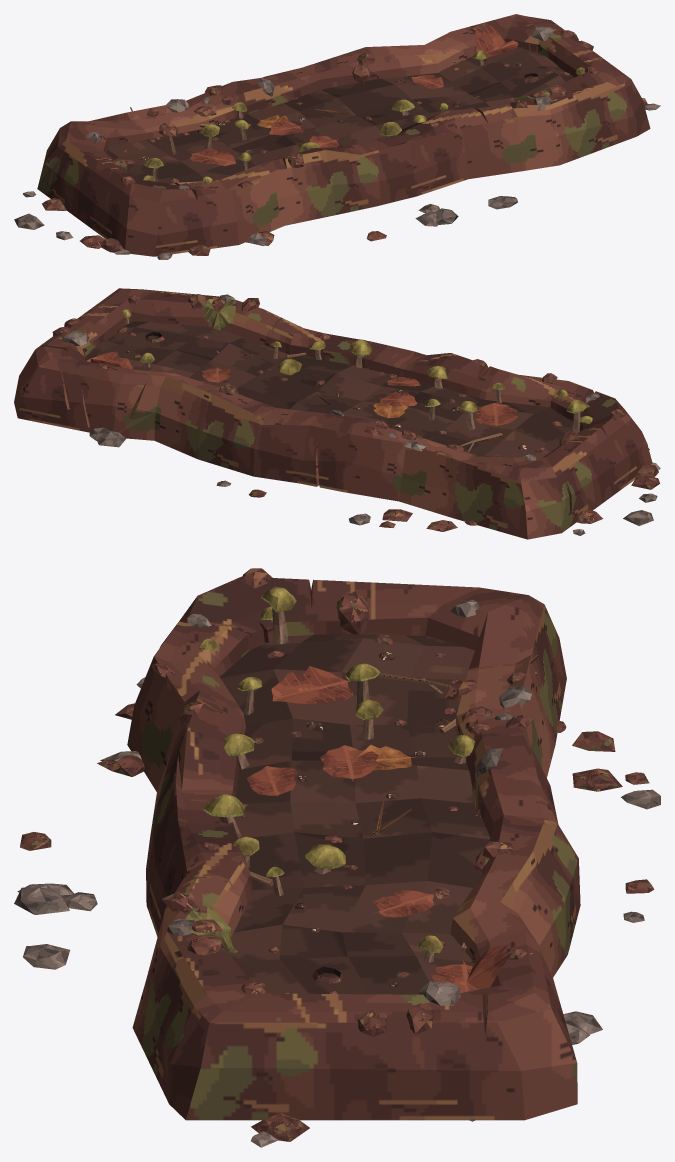
Rendered from SM_AN40_CultivationBed.fbx.
3 renders of one model, top to bottom at view 1: azimuth 30°, elevation 25°; view 2: azimuth 150°, elevation 25°; view 3: azimuth 270°, elevation 25°, orthographic. The views are drawn at different scales.
Visible parts, largest first — view 1: AN40a_Earth, AN40a_Props; view 2: AN40a_Earth, AN40a_Props; view 3: AN40a_Earth, AN40a_Props.
Part boxes in pixels (x1=…): AN40a_Earth: x1=37, y1=14, x2=650, y2=256; AN40a_Props: x1=14, y1=24, x2=660, y2=259; AN40a_Earth: x1=14, y1=288, x2=652, y2=539; AN40a_Props: x1=52, y1=294, x2=660, y2=535; AN40a_Earth: x1=127, y1=576, x2=580, y2=1120; AN40a_Props: x1=14, y1=568, x2=660, y2=1147.
Bounding box in the file's own units: 4.79 × 0.499 × 2.46.
